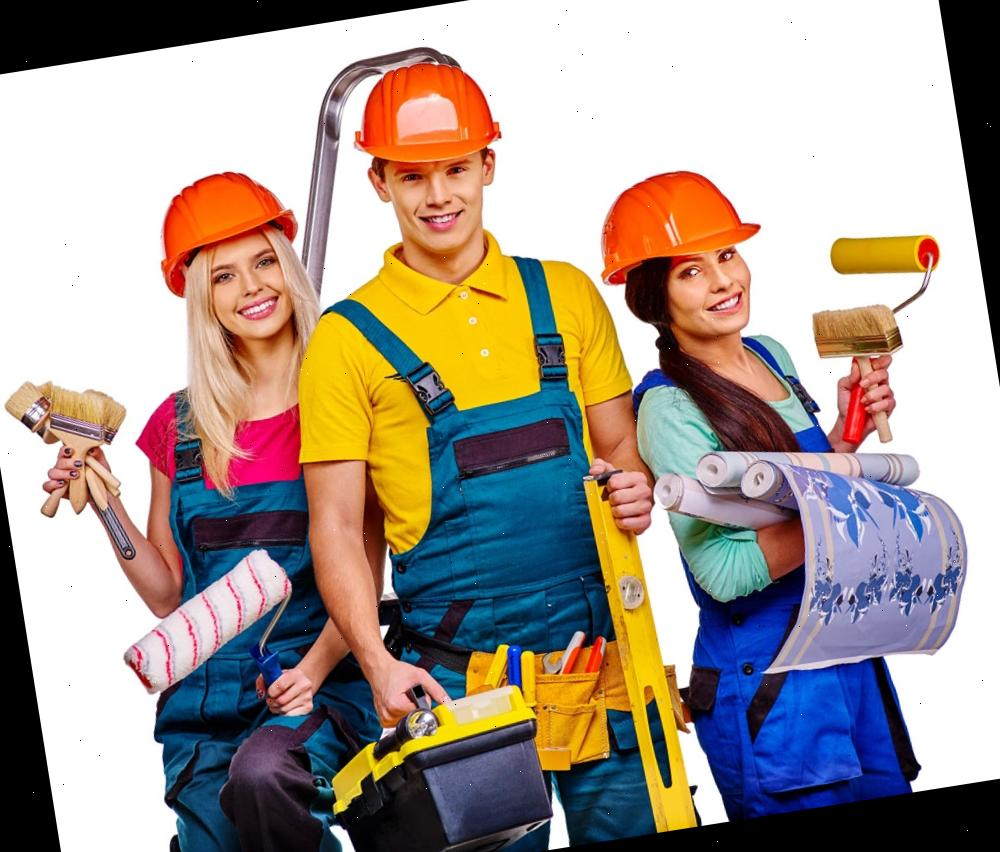helmet: (320, 28, 508, 181), (577, 156, 764, 290), (136, 156, 304, 277)
no_wear: (317, 257, 644, 682), (152, 353, 378, 689)
